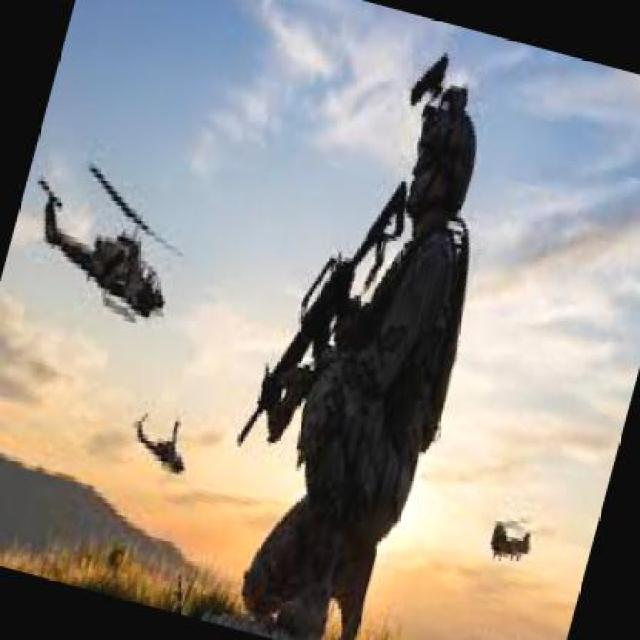MIL_Pax: (234, 71, 520, 638)
